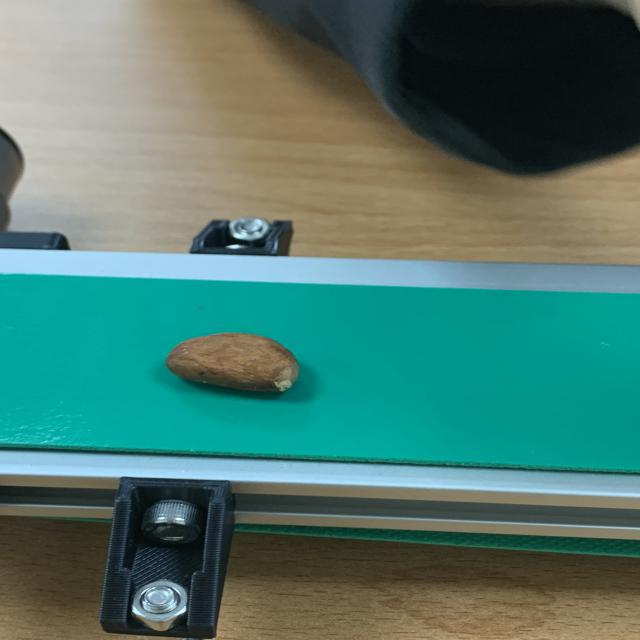Fine_cocoabeans: (122, 312, 342, 431)
